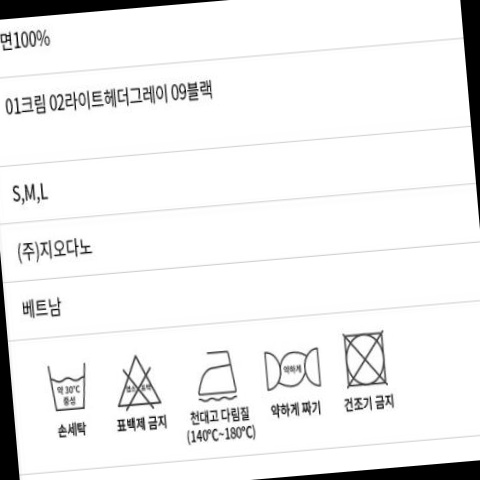30C: (42, 355, 97, 414)
DN_tumble_dry: (335, 323, 396, 392)
iron: (257, 340, 329, 393), (188, 340, 245, 405)
non_chlorine_bleach: (110, 347, 170, 413)
